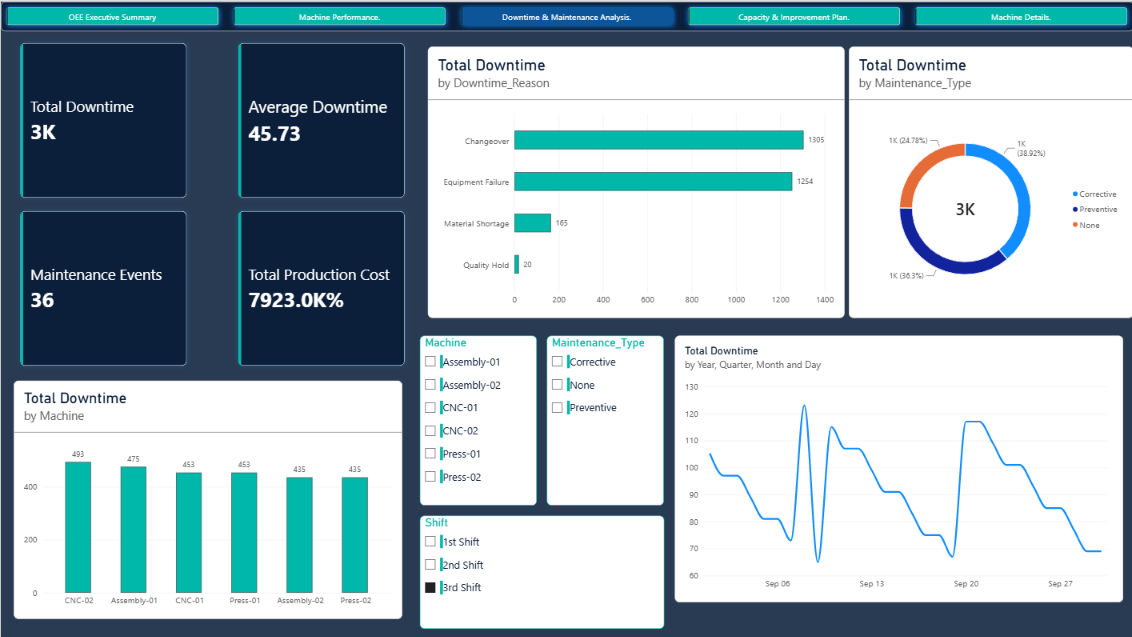

Layout of this report page (visuals, bound fields, positions):
{"tool":"powerbi","page":{"name":"Downtime & Maintenance Analysis.","canvas":[1920,1080],"ordinal":2},"visuals":[{"type":"cardVisual","fields":{"Data":["OEE_data.Total Downtime"]},"box":[21.2,59.8,304,284],"z":0},{"type":"cardVisual","fields":{"Data":["OEE_data.Average Downtime"]},"box":[391.4,59.8,304,284],"z":1000},{"type":"cardVisual","fields":{"Data":["OEE_data.Maintenance Events"]},"box":[22,344,304,284],"z":2000},{"type":"cardVisual","fields":{"Data":["OEE_data.Total Production Cost"]},"box":[392,344,304,284],"z":3000},{"type":"barChart","fields":{"Category":["OEE_data.Downtime_Reason"],"Y":["OEE_data.Total Downtime"]},"box":[724,76,706,460],"z":4000},{"type":"donutChart","fields":{"Category":["OEE_data.Maintenance_Type"],"Y":["OEE_data.Total Downtime"]},"box":[1438,76,482,460],"z":5000},{"type":"lineChart","fields":{"Category":["OEE_data.Date.Variation.Date Hierarchy.Year","OEE_data.Date.Variation.Date Hierarchy.Quarter","OEE_data.Date.Variation.Date Hierarchy.Month","OEE_data.Date.Variation.Date Hierarchy.Day"],"Y":["OEE_data.Total Downtime"]},"box":[1142,566,760,452],"z":6000},{"type":"columnChart","fields":{"Category":["OEE_data.Machine"],"Y":["OEE_data.Total Downtime"]},"box":[22,642,658,404],"z":7000},{"type":"slicer","fields":{"Values":["OEE_data.Machine"]},"box":[710,566,198,288],"z":8000},{"type":"slicer","fields":{"Values":["OEE_data.Maintenance_Type"]},"box":[926,566,198,288],"z":9000},{"type":"slicer","fields":{"Values":["OEE_data.Shift"]},"box":[710,872,414,192],"z":10000},{"type":"pageNavigator","box":[0,0,1920.4,50.1],"z":10001}]}

Visuals, with their boxes in screenshot pixels (x1, y1, x2, y2), scaled from the page's 1920x1080 canvas onto the 1132x637 screenshot:
cardVisual - OEE_data.Total Downtime: <box>12,35,192,203</box>
cardVisual - OEE_data.Average Downtime: <box>231,35,410,203</box>
cardVisual - OEE_data.Maintenance Events: <box>13,203,192,370</box>
cardVisual - OEE_data.Total Production Cost: <box>231,203,410,370</box>
barChart - OEE_data.Downtime_Reason x OEE_data.Total Downtime: <box>427,45,843,316</box>
donutChart - OEE_data.Maintenance_Type x OEE_data.Total Downtime: <box>848,45,1131,316</box>
lineChart - OEE_data.Date.Variation.Date Hierarchy.Year x OEE_data.Date.Variation.Date Hierarchy.Quarter: <box>673,334,1121,600</box>
columnChart - OEE_data.Machine x OEE_data.Total Downtime: <box>13,379,401,617</box>
slicer - OEE_data.Machine: <box>419,334,535,504</box>
slicer - OEE_data.Maintenance_Type: <box>546,334,663,504</box>
slicer - OEE_data.Shift: <box>419,514,663,628</box>
pageNavigator: <box>0,0,1131,30</box>
